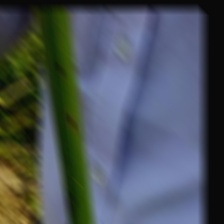Bacterial_Leaf_Blight: (66, 190, 76, 215), (67, 110, 77, 133), (54, 60, 66, 79)
